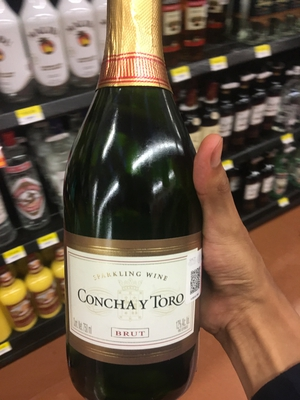brut: (53, 1, 213, 400)
